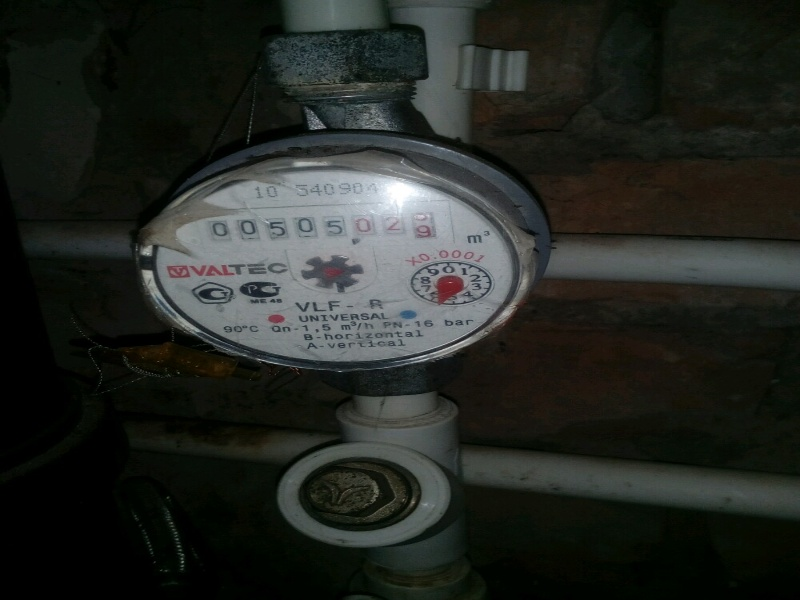dial: (192, 209, 436, 243)
